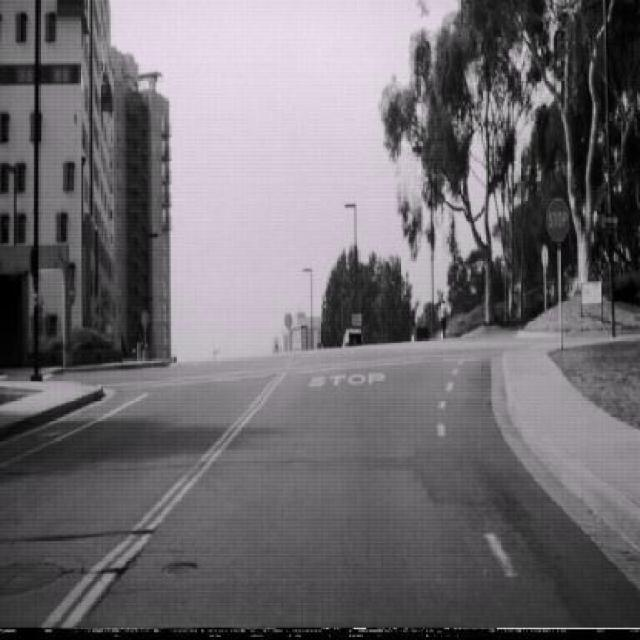stop: (546, 195, 571, 243)
